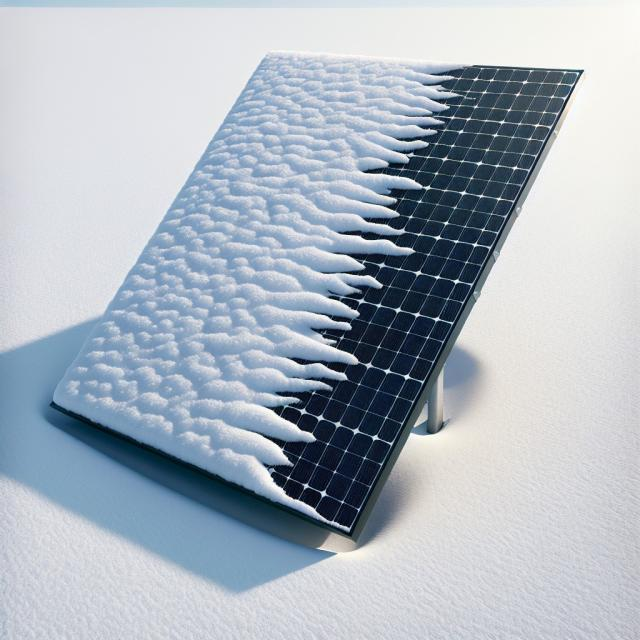Anomaly Solar Panel: (49, 0, 581, 549)
Snow: (37, 0, 475, 531)
